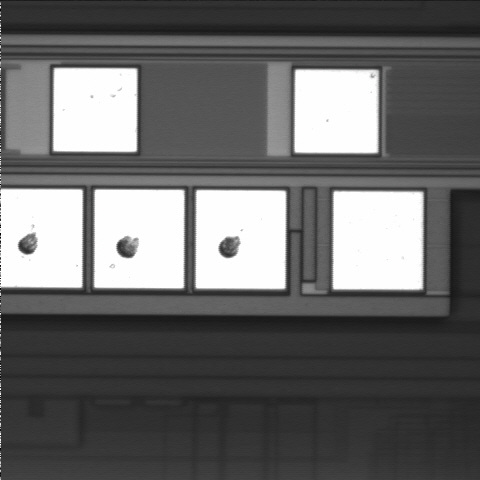pad: (196, 190, 286, 289), (333, 191, 423, 290), (94, 190, 184, 288), (53, 68, 137, 152), (295, 70, 378, 153)
